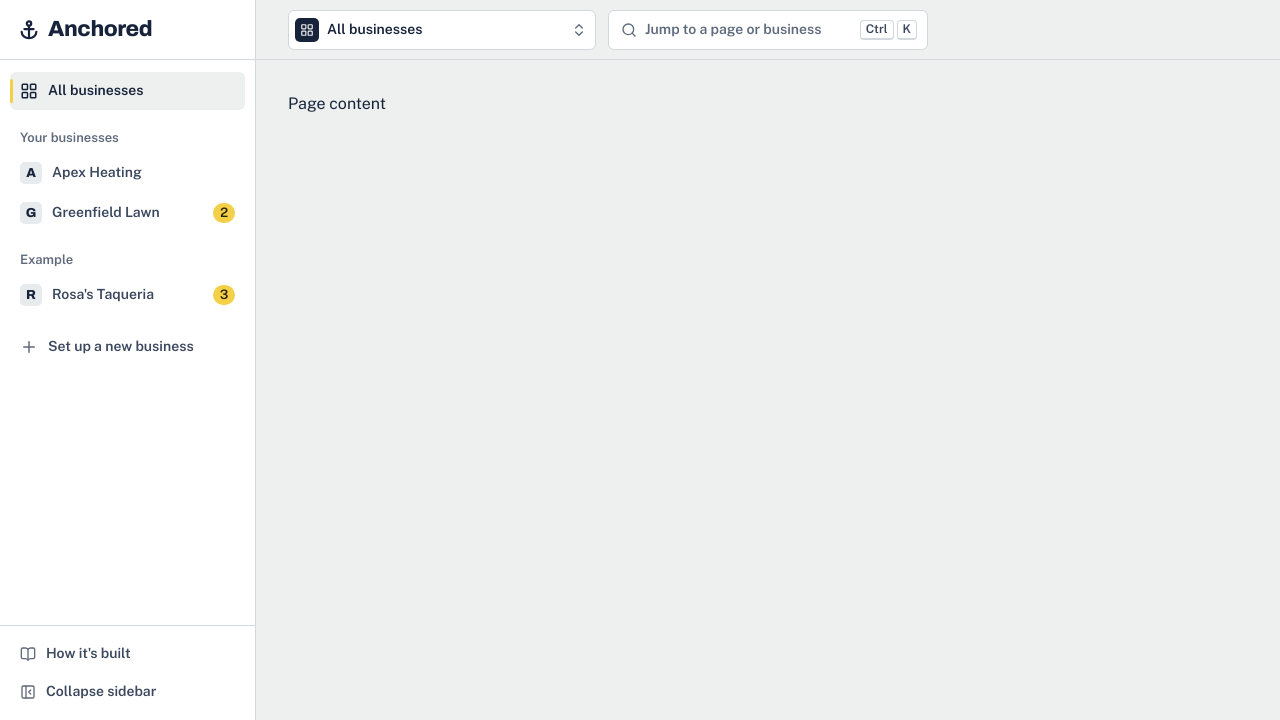
it: CommandPalette › opens from the Jump to button in the top bar
Click the button "Jump to a page or business Ctrl K".
click(768, 30)  # box [608,10,928,50]
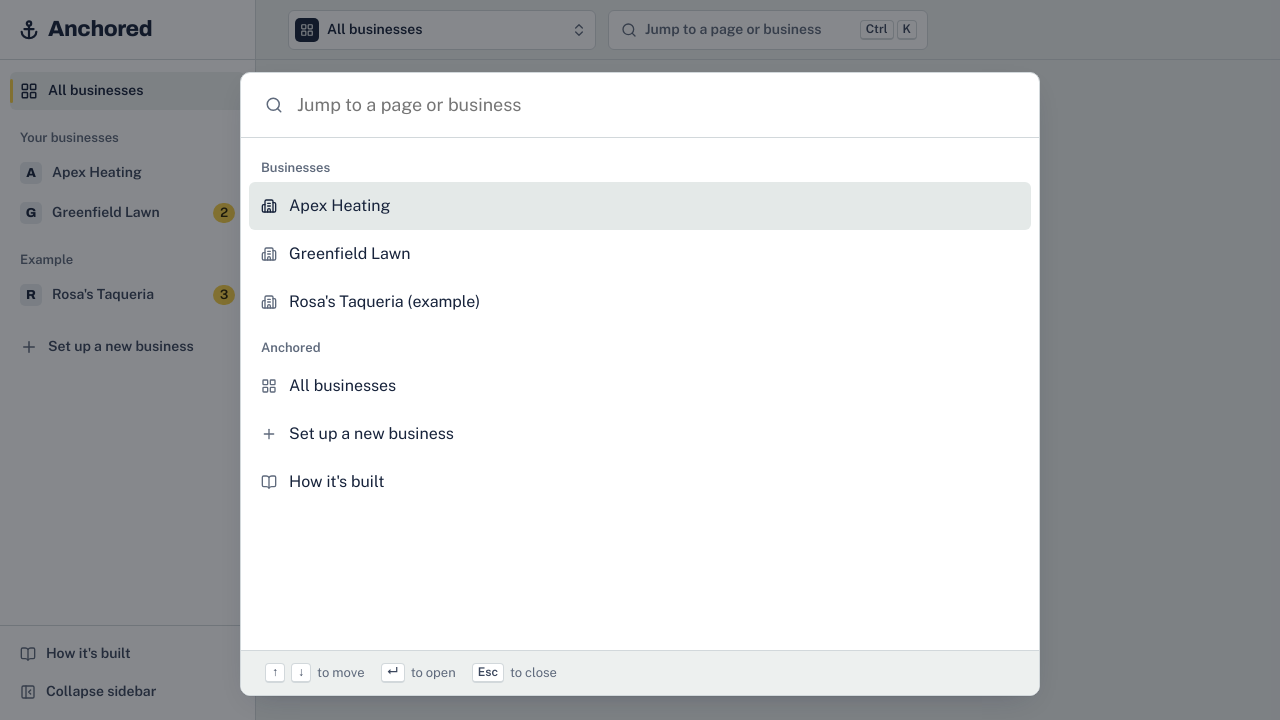
Expected: the dialog named "Jump to a page or business" is shown, [240,72,1040,696]
